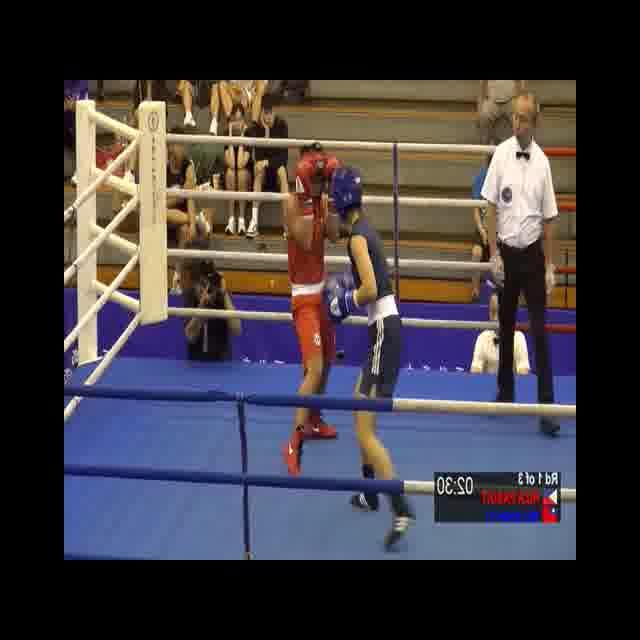blue-player: (327, 161, 418, 557)
red-player: (280, 148, 348, 481)
referee: (479, 92, 566, 439)
